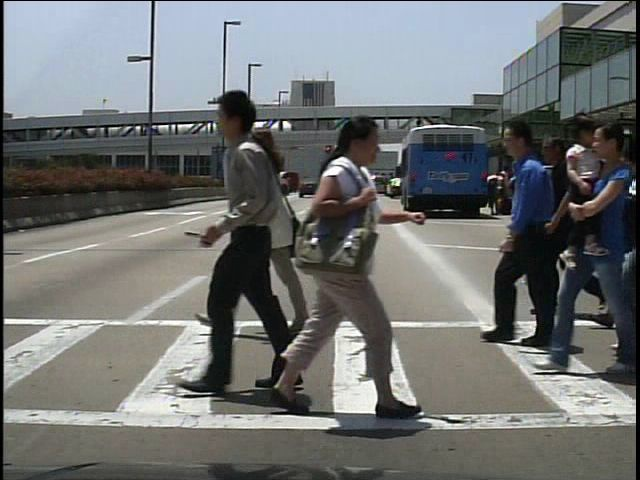person: (177, 82, 344, 413), (268, 113, 401, 422), (210, 118, 340, 344), (478, 115, 578, 348), (525, 130, 598, 322), (582, 168, 602, 218), (487, 162, 505, 214), (517, 165, 518, 215)
